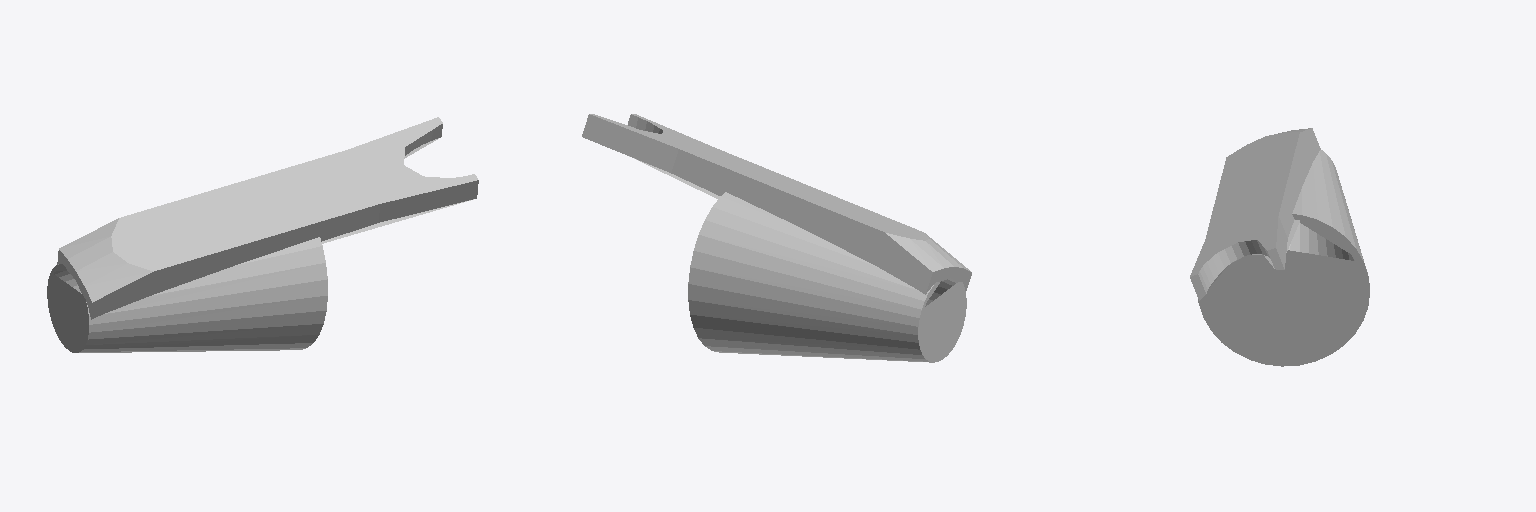
Rendered from hand-inventory.obj.
3 renders of one model, left to right at view 1: azimuth 30°, elevation 25°; view 2: azimuth 150°, elevation 25°; view 3: azimuth 270°, elevation 25°, orthographic.
Visible parts, largest first — view 1: инвентарь-нью_Цилиндр; view 2: инвентарь-нью_Цилиндр; view 3: инвентарь-нью_Цилиндр.
Boxes of the visible parts, x1=… form: инвентарь-нью_Цилиндр: x1=47, y1=117, x2=478, y2=352; инвентарь-нью_Цилиндр: x1=582, y1=114, x2=971, y2=362; инвентарь-нью_Цилиндр: x1=1190, y1=128, x2=1369, y2=366.
Size of the model in its own units: 1.18 by 0.5931 by 0.5034.